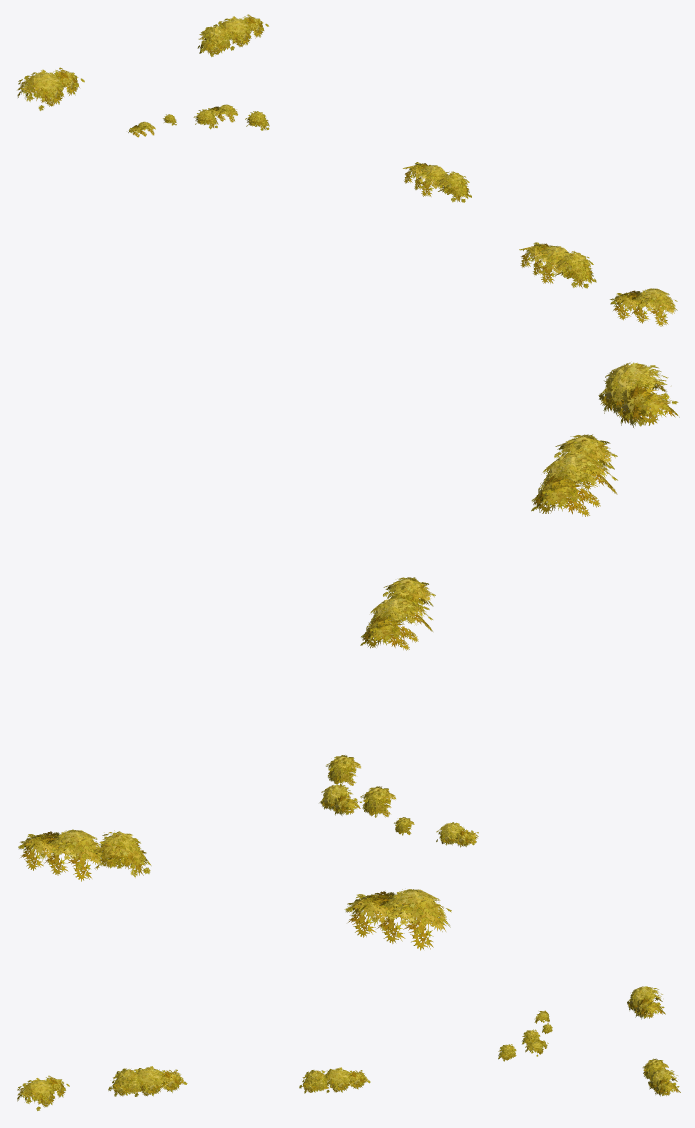
The model's file is guanmu06.fbx.
3 renders of one model, top to bottom at view 1: azimuth 30°, elevation 25°; view 2: azimuth 150°, elevation 25°; view 3: azimuth 270°, elevation 25°, orthographic. The views are drawn at different scales.
Visible parts, largest first — view 1: guanmu06; view 2: guanmu06; view 3: guanmu06.
Part boxes in pixels (left/top/right/bottom): guanmu06: left=17, top=14, right=677, bottom=326; guanmu06: left=18, top=362, right=679, bottom=950; guanmu06: left=17, top=986, right=680, bottom=1110.
Size of the model in its own units: 2188 by 255 by 5461.
Materials: 1 (1 with a texture image).
